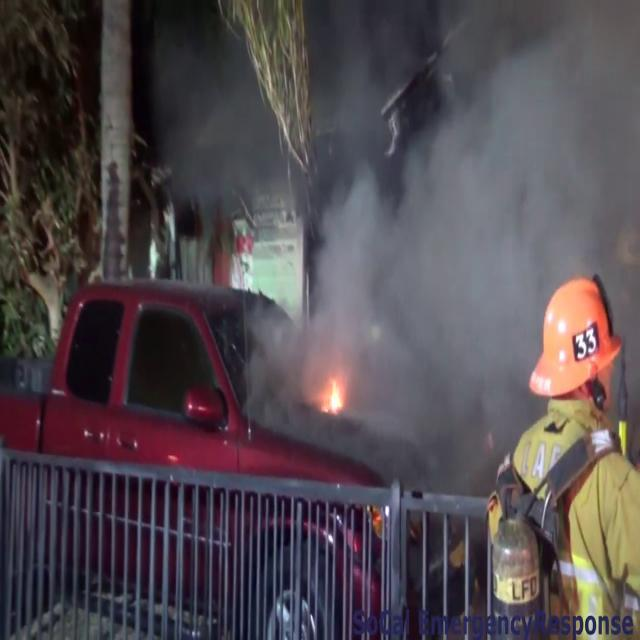Fire: (316, 362, 348, 420)
Smoke: (261, 0, 640, 426), (149, 10, 296, 233)
